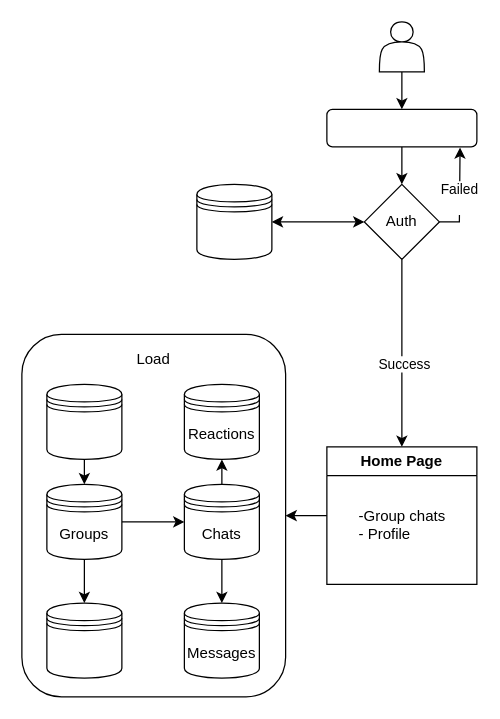
Some shapes in this 500 by 719 pixel diagram are drawn without their labels. The centre of each missing label's shape, as x and y in pixels:
"Groups Members" goes at pixel 84 640.
"Invites" goes at pixel 84 421.
"Login/Register" goes at pixel 401 127.
"Users" goes at pixel 234 221.
